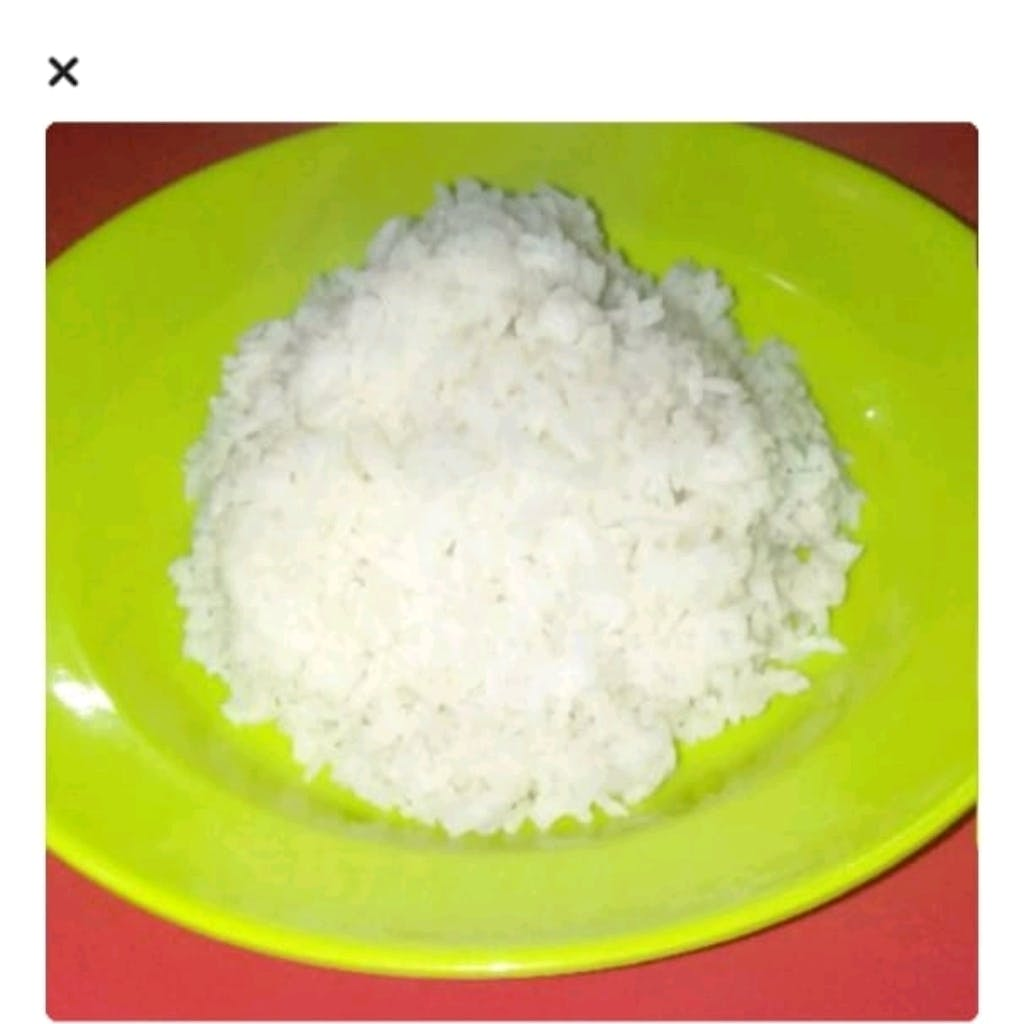Nasi Putih: (167, 229, 865, 813)
